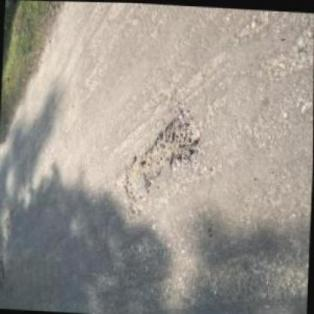Hueco: (121, 102, 201, 203)
